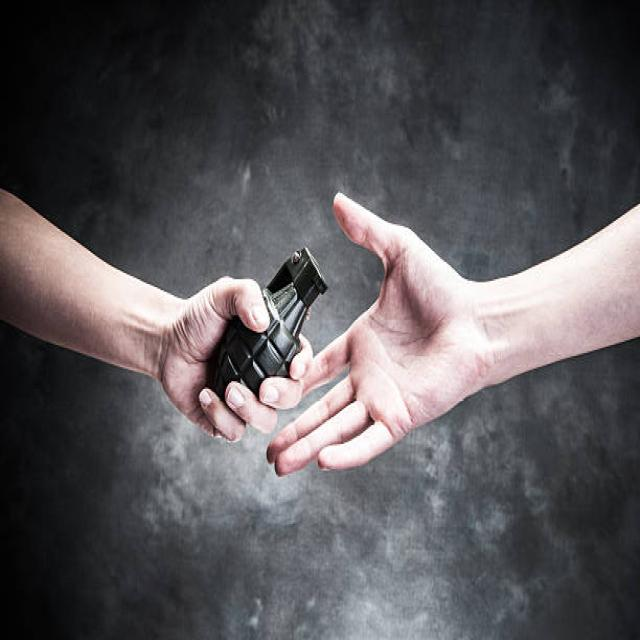grenade: (210, 248, 331, 409)
